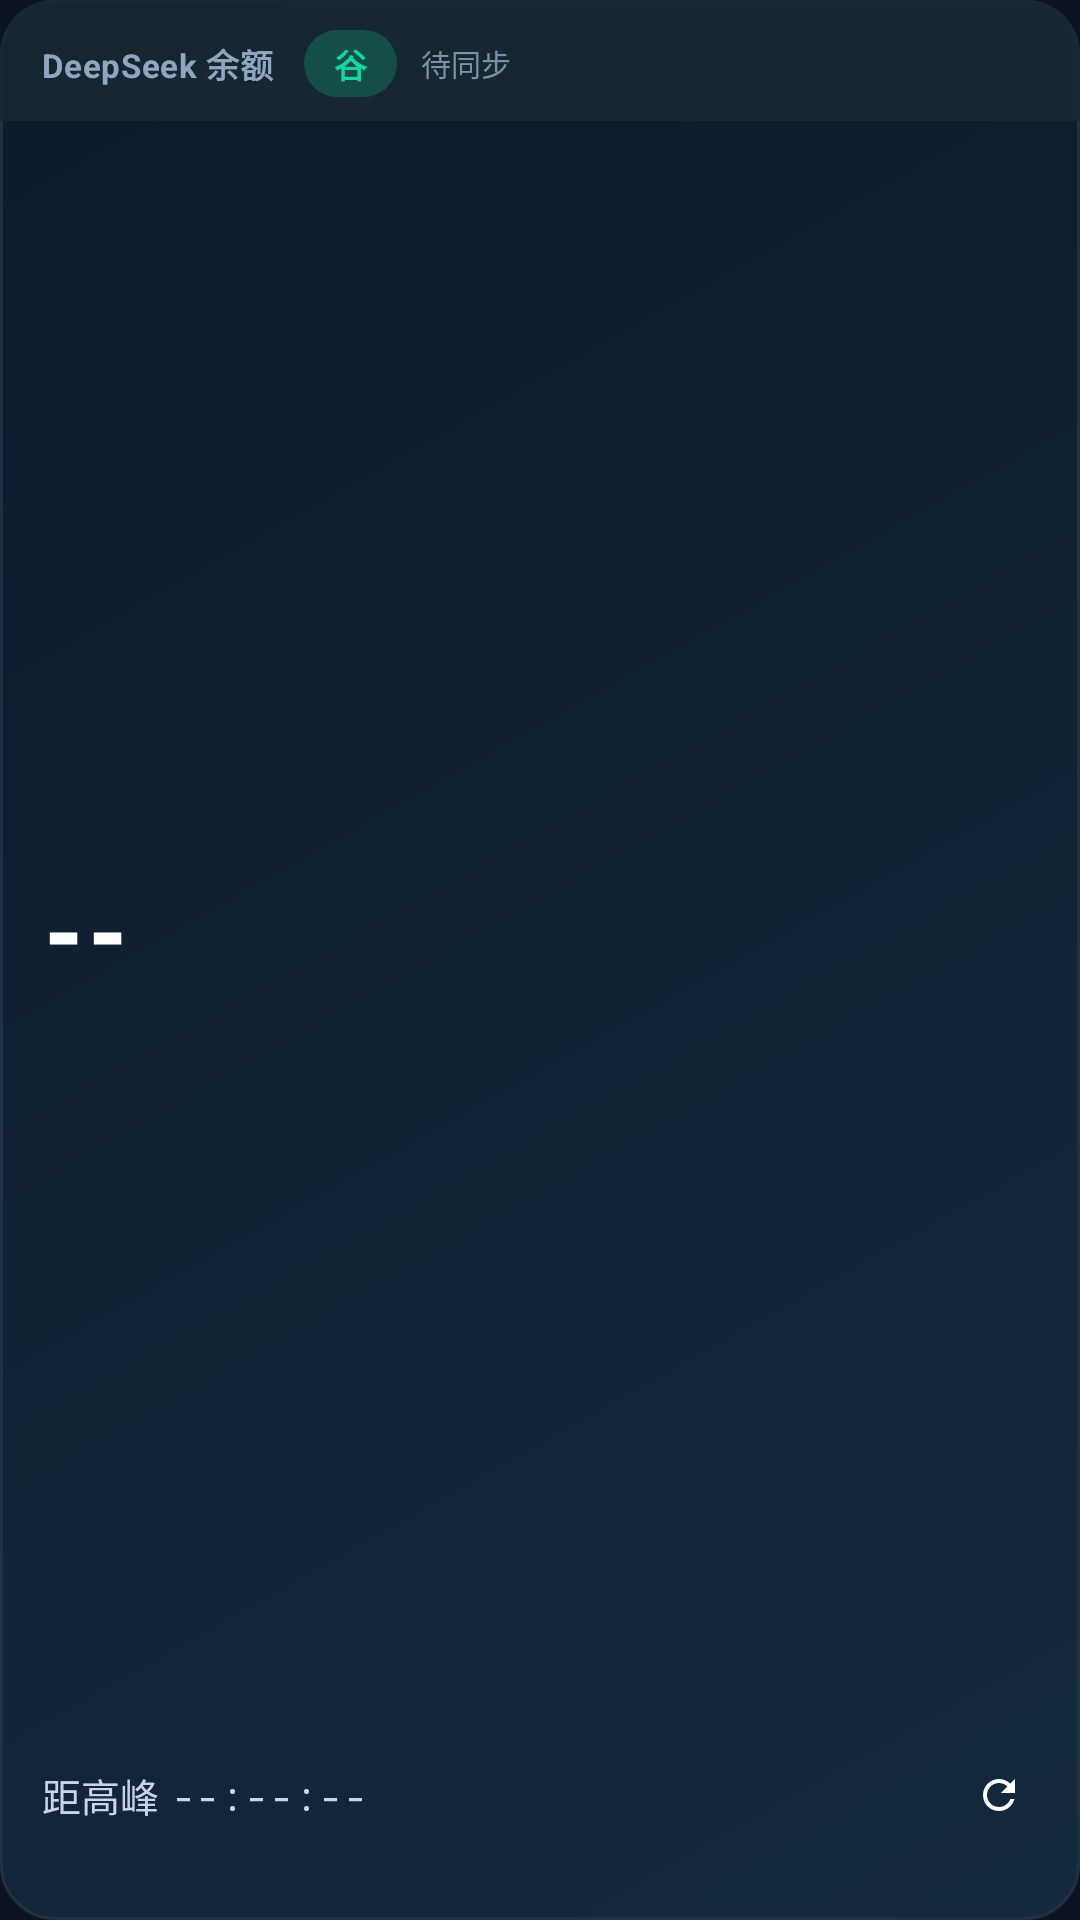

Point at icon controls on the screen. Image size 1080×1920, points as (x=x, y=y).
立即刷新余额: (x=999, y=1795)
